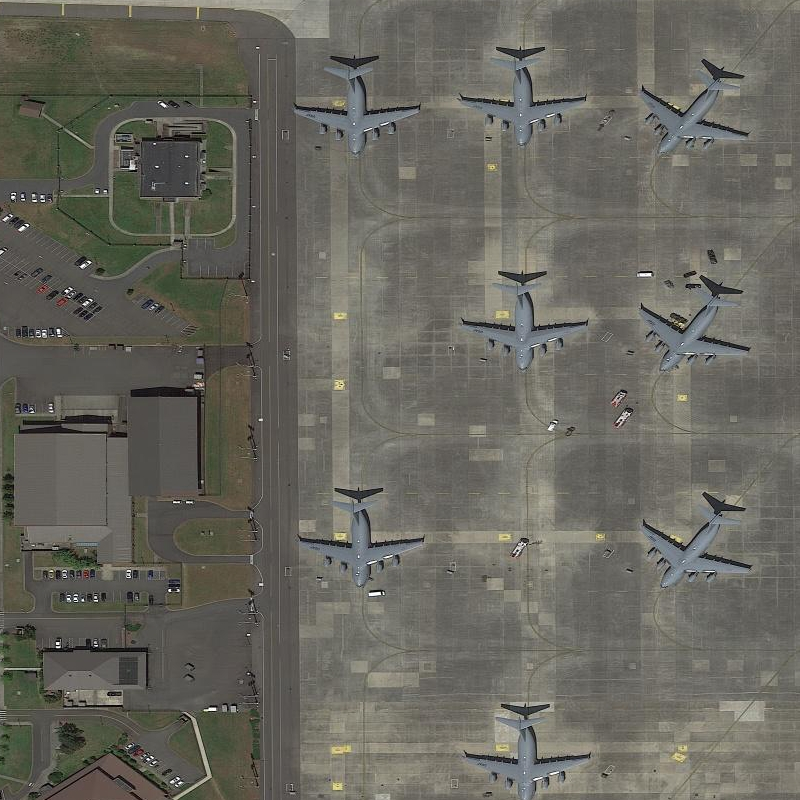A3: (447, 48, 593, 153), (454, 271, 592, 377), (293, 496, 434, 595), (286, 61, 424, 158), (627, 57, 754, 160), (454, 708, 595, 800), (627, 278, 756, 375), (635, 497, 760, 596)
